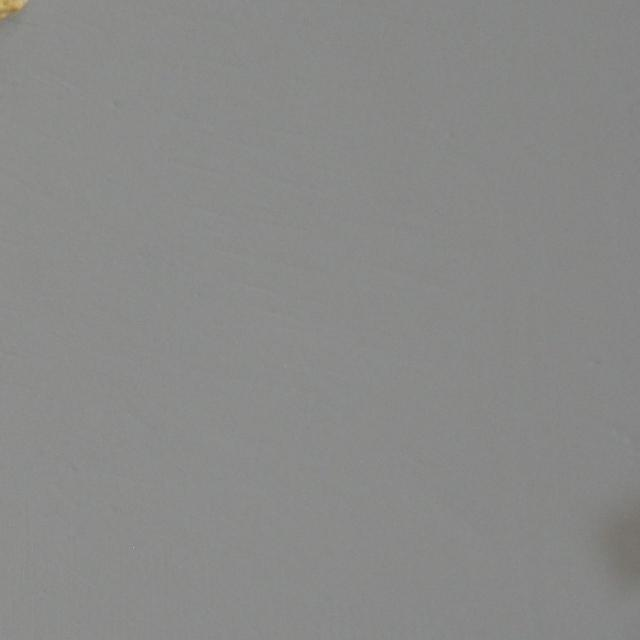entero: (0, 0, 40, 39)
